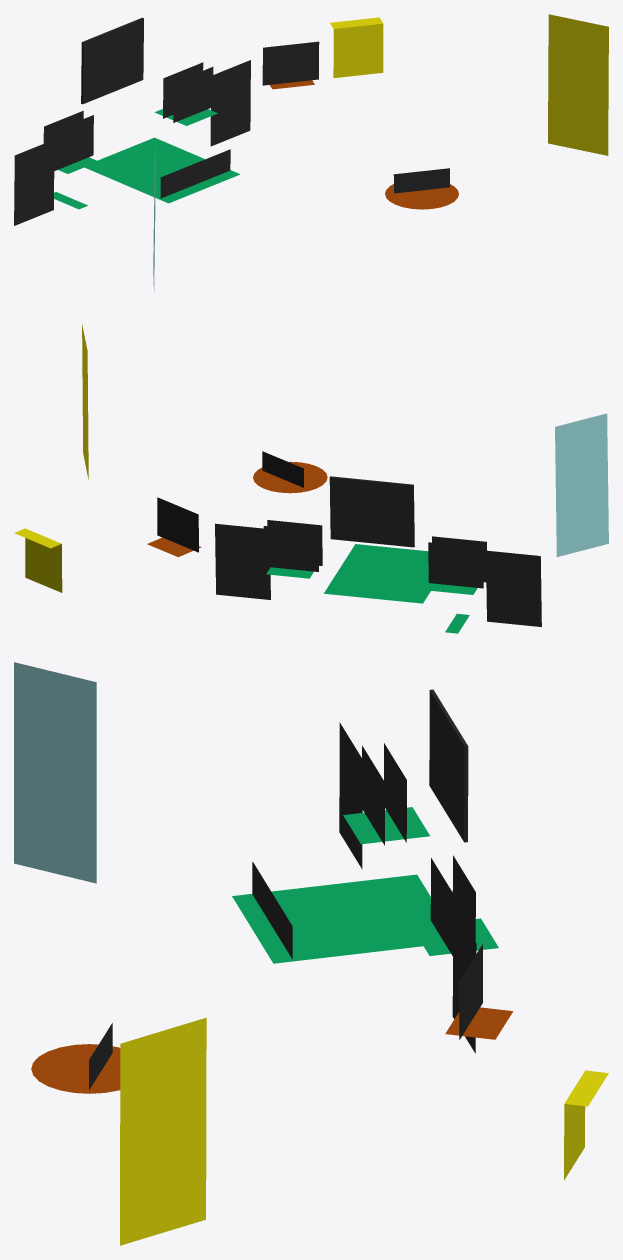
Rendered from room1_addelements_pfall.fbx.
3 views of the same model, one above another, from view 1: azimuth 30°, elevation 25°; view 2: azimuth 150°, elevation 25°; view 3: azimuth 270°, elevation 25° (orthographic). The views are drawn at different scales.
Parts seen in each view (by area): view 1: OBJ_hoteldoor, INV_OBJ_bedtopholder, OBJ_painting, OBJ_plantL, OBJ_plantR, OBJ_laundrychute_F, OBJ_phone, OBJ_detailobjR, OBJ_detailobjL, OBJ_towels, INV_OBJ_coffeetable_T, OBJ_notepad (+2 smaller); view 2: OBJ_window, INV_OBJ_bedtopholder, OBJ_plantL, OBJ_plantR, OBJ_painting, OBJ_lampL, OBJ_safedoor, OBJ_lampR, OBJ_phone, OBJ_laundrychute_F, INV_OBJ_coffeetable_T, OBJ_notepad (+4 smaller); view 3: OBJ_hoteldoor, OBJ_window, INV_OBJ_bedtopholder, OBJ_painting, INV_OBJ_coffeetable_T, OBJ_plantL, INV_OBJ_objholderL, OBJ_detailobjR, OBJ_detailobjL, OBJ_plantR, OBJ_lampL, OBJ_phone (+6 smaller).
Part boxes in pixels (x1,y1,x2,y2): OBJ_hoteldoor: [548, 14, 608, 155]; INV_OBJ_bedtopholder: [84, 137, 240, 203]; OBJ_painting: [81, 17, 143, 104]; OBJ_plantL: [14, 140, 54, 225]; OBJ_plantR: [210, 60, 250, 146]; OBJ_laundrychute_F: [333, 23, 383, 78]; OBJ_phone: [262, 41, 319, 85]; OBJ_detailobjR: [173, 67, 213, 122]; OBJ_detailobjL: [53, 115, 93, 171]; OBJ_towels: [160, 149, 230, 198]; INV_OBJ_coffeetable_T: [385, 184, 458, 209]; OBJ_notepad: [393, 168, 449, 193]; OBJ_window: [555, 413, 608, 556]; INV_OBJ_bedtopholder: [324, 544, 434, 603]; OBJ_plantL: [486, 550, 541, 626]; OBJ_plantR: [215, 523, 270, 599]; OBJ_painting: [329, 476, 414, 547]; OBJ_lampL: [428, 542, 483, 588]; OBJ_safedoor: [341, 494, 396, 539]; OBJ_lampR: [263, 526, 318, 571]; OBJ_phone: [157, 497, 198, 552]; OBJ_laundrychute_F: [25, 538, 62, 592]; INV_OBJ_coffeetable_T: [253, 461, 327, 493]; OBJ_notepad: [262, 451, 303, 487]; OBJ_hoteldoor: [120, 1017, 206, 1245]; OBJ_window: [14, 662, 96, 883]; INV_OBJ_bedtopholder: [232, 874, 432, 963]; OBJ_painting: [429, 689, 468, 842]; INV_OBJ_coffeetable_T: [31, 1044, 120, 1093]; OBJ_plantL: [339, 722, 362, 868]; INV_OBJ_objholderL: [343, 807, 429, 844]; OBJ_detailobjR: [430, 858, 453, 957]; OBJ_detailobjL: [362, 745, 384, 845]; OBJ_plantR: [452, 907, 476, 1053]; OBJ_lampL: [384, 743, 406, 842]; OBJ_phone: [459, 944, 482, 1039].
Bounding box in the file's own units: 87.01 × 54.19 × 22.96.
